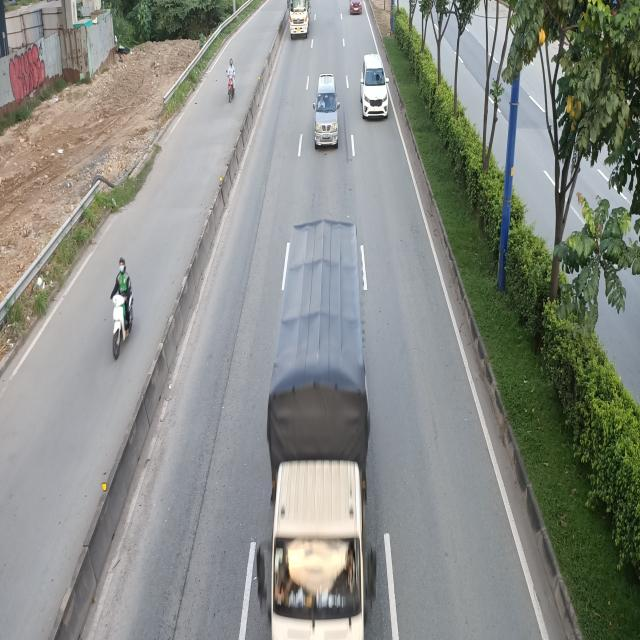car: (312, 72, 339, 150), (358, 52, 389, 118)
truck: (256, 220, 377, 640), (287, 0, 312, 38)
